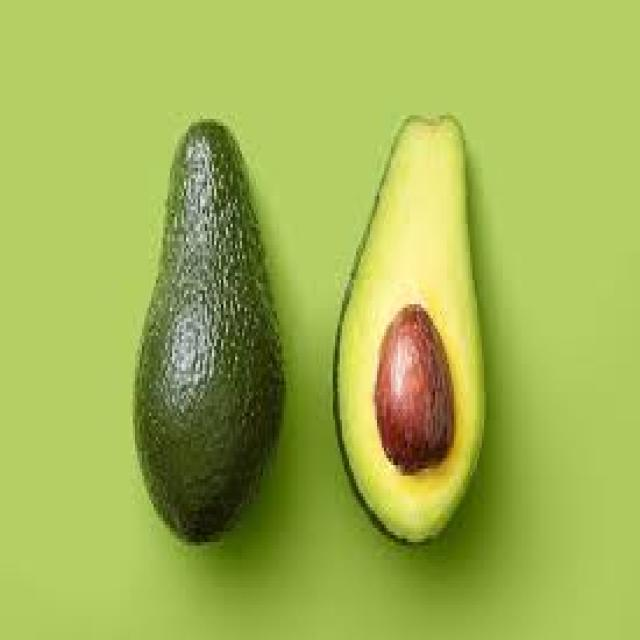Bo: (330, 105, 496, 571), (115, 111, 291, 543)
